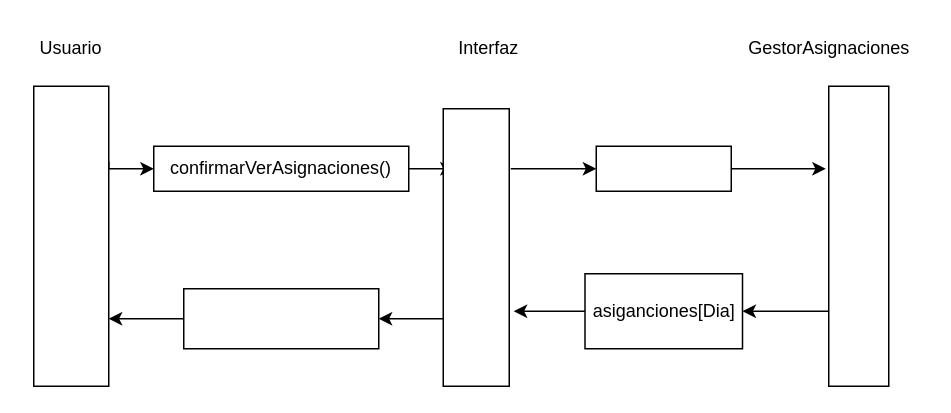
Image size: 951x413. Some labels were removed from this diagram. The centre of each missing label's shape, as x and y in pixels:
"(int) Dia" goes at [663,168].
"toString(asignaciones)" goes at [280,318].
